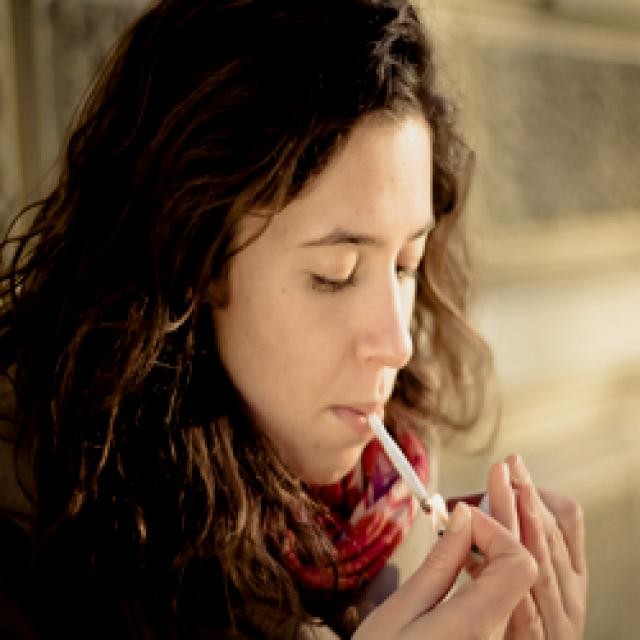Smooking: (369, 411, 440, 529)
